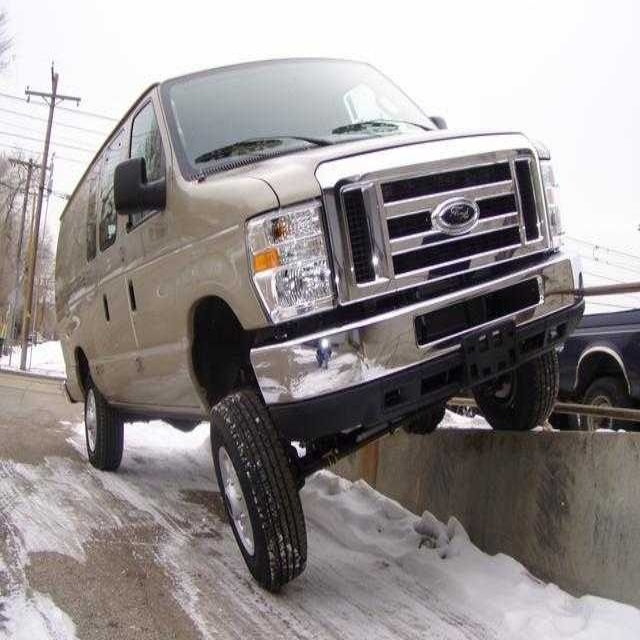Van: (53, 56, 582, 593)
